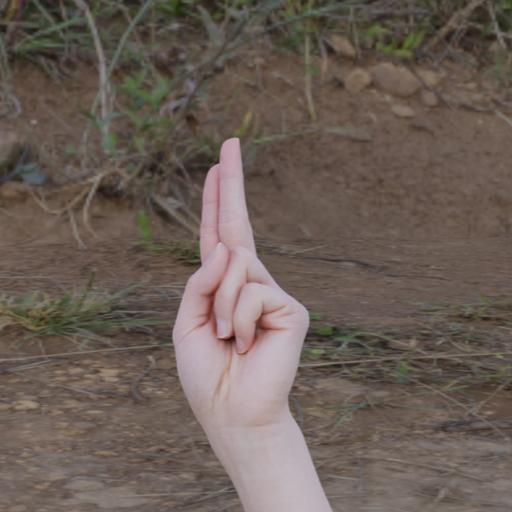U: (164, 128, 327, 458)
